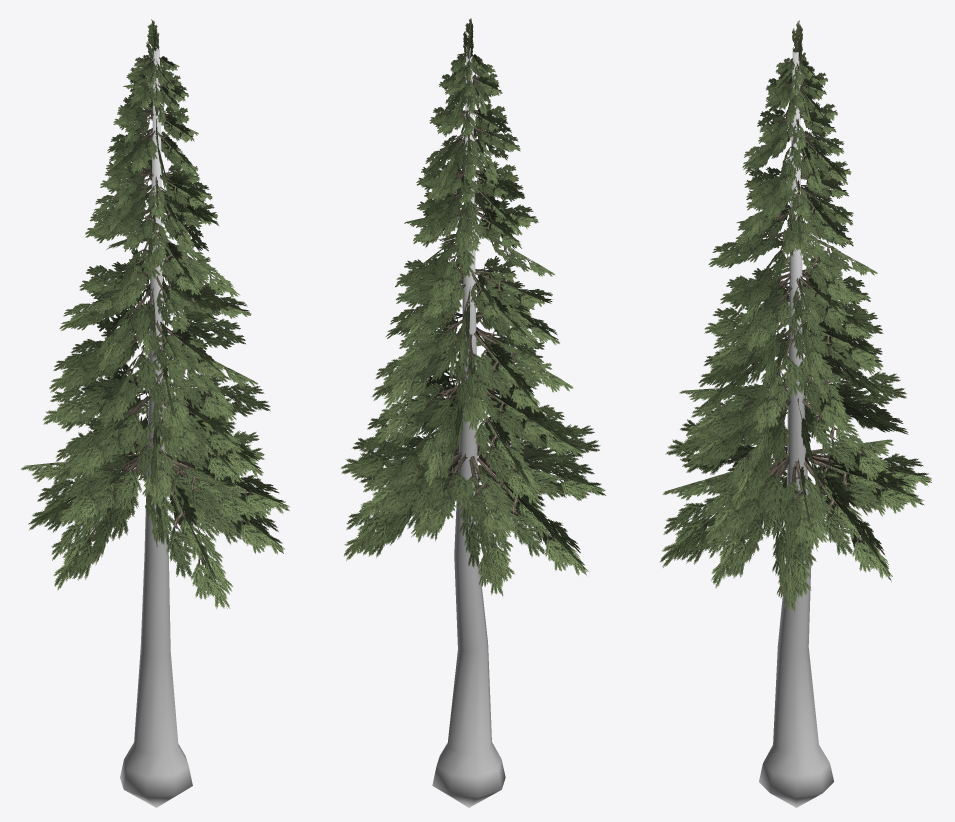
The model's file is Pine_01.fbx.
The picture shows the model from 3 angles, left to right: view 1: azimuth 30°, elevation 25°; view 2: azimuth 150°, elevation 25°; view 3: azimuth 270°, elevation 25°; orthographic projection.
Visible parts, largest first — view 1: polySurface1; view 2: polySurface1; view 3: polySurface1.
Part boxes in pixels (left/top/right/bottom): polySurface1: left=20, top=19, right=289, bottom=807; polySurface1: left=340, top=18, right=605, bottom=807; polySurface1: left=660, top=20, right=931, bottom=807.
Bounding box in the file's own units: 5.1 × 15.4 × 5.27.
